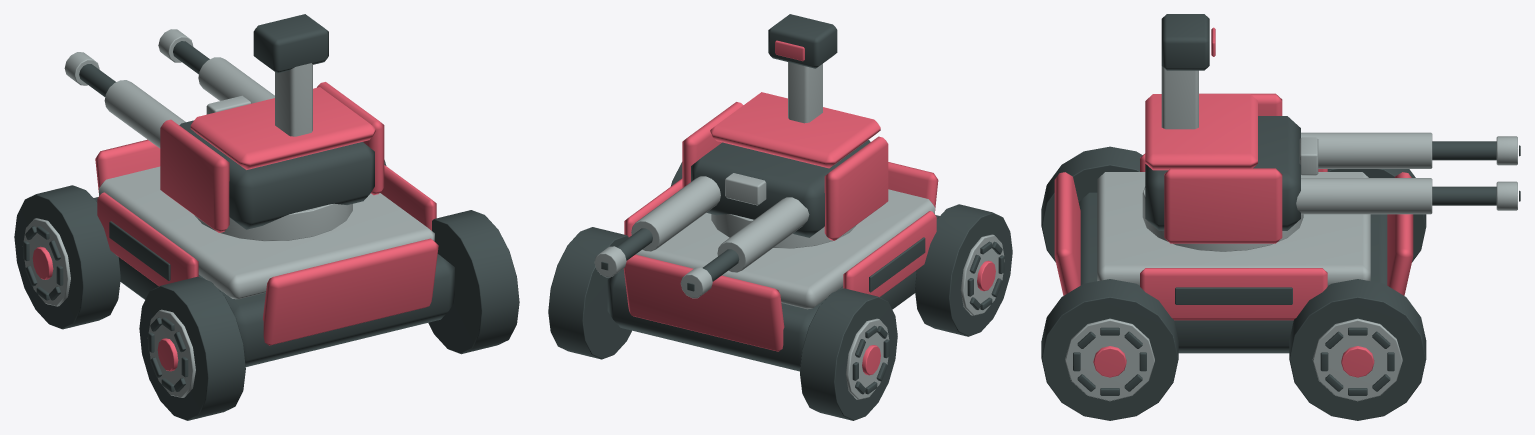
File: sentry-red.glb
3 renders of one model, left to right at view 1: azimuth 30°, elevation 25°; view 2: azimuth 150°, elevation 25°; view 3: azimuth 270°, elevation 25°, orthographic. The views are drawn at different scales.
Visible parts, largest first — view 1: sentry-chassis, sentry-armor, sentry-mechanics; view 2: sentry-chassis, sentry-armor, sentry-mechanics; view 3: sentry-chassis, sentry-mechanics, sentry-armor.
Part boxes in pixels (bbox=[...]): sentry-chassis: bbox=[14, 14, 519, 420]; sentry-armor: bbox=[32, 82, 438, 371]; sentry-mechanics: bbox=[22, 29, 434, 397]; sentry-chassis: bbox=[548, 14, 1012, 420]; sentry-armor: bbox=[623, 40, 995, 375]; sentry-mechanics: bbox=[594, 62, 1004, 399]; sentry-chassis: bbox=[1041, 14, 1520, 420]; sentry-mechanics: bbox=[1065, 66, 1517, 401]; sentry-armor: bbox=[1054, 27, 1413, 377].
Size of the model in its own units: 0.7 by 0.66 by 0.8935.
